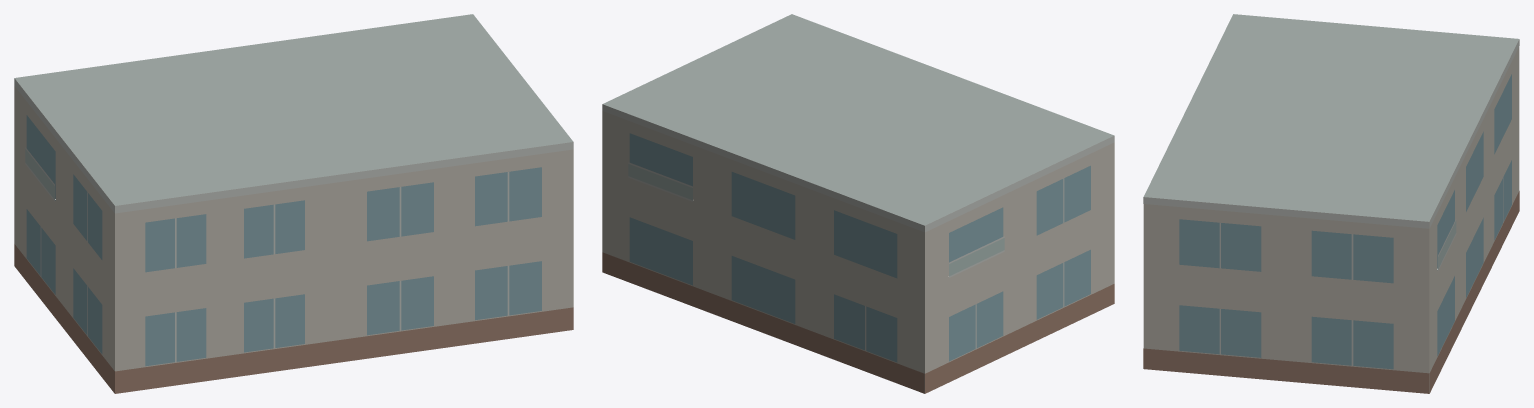
The model's file is survey-upis-32701568.glb.
3 renders of one model, left to right at view 1: azimuth 30°, elevation 25°; view 2: azimuth 150°, elevation 25°; view 3: azimuth 270°, elevation 25°, orthographic. The views are drawn at different scales.
Visible parts, largest first — view 1: survey-upis-32701568.tmp; view 2: survey-upis-32701568.tmp; view 3: survey-upis-32701568.tmp.
Part boxes in pixels (left/top/right/bottom): survey-upis-32701568.tmp: left=14, top=14, right=573, bottom=393; survey-upis-32701568.tmp: left=602, top=14, right=1114, bottom=393; survey-upis-32701568.tmp: left=1143, top=14, right=1519, bottom=393.
Size of the model in its own units: 15.82 by 6.1 by 12.1.
